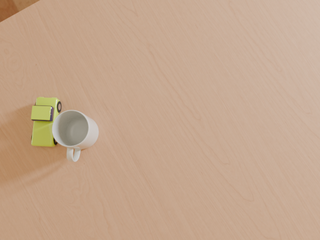cup: (52, 110, 99, 162)
toy_car: (31, 97, 61, 147)
